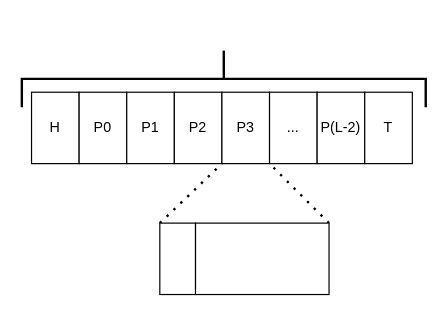
This 447x315 diagram has some shape labels left out. Each missing label, with the centre of its shape:
Data (Nb): point (261, 258)
ID 2b: point (177, 258)
L >= 2: point (223, 78)
